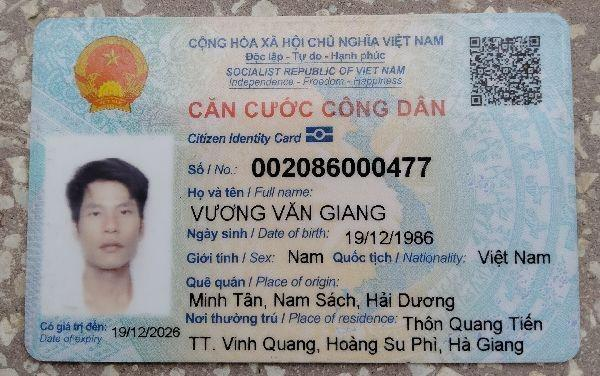ID: (245, 149, 437, 183)
birth: (337, 227, 437, 250)
name: (185, 199, 411, 224)
place: (181, 287, 463, 312)
residence: (186, 330, 530, 361), (401, 312, 556, 338)
